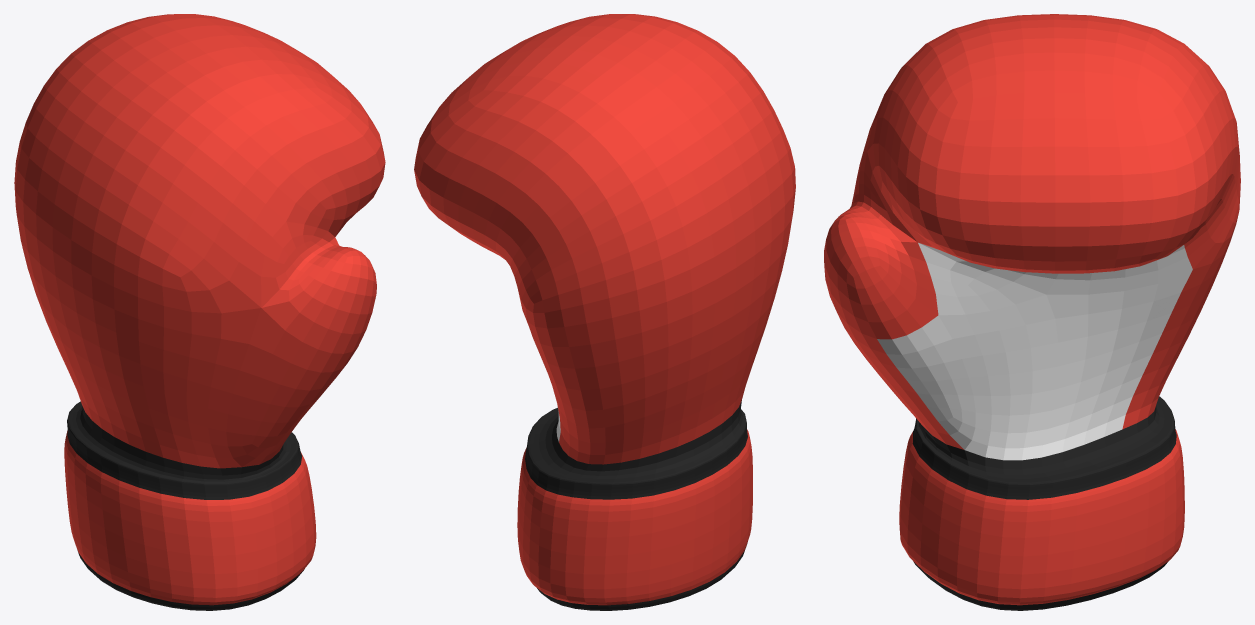
The model's file is BoxingGlove_Left.fbx.
3 views of the same model, side by side, from view 1: azimuth 30°, elevation 25°; view 2: azimuth 150°, elevation 25°; view 3: azimuth 270°, elevation 25° (orthographic). The views are drawn at different scales.
Visible parts, largest first — view 1: BoxingGlove_Left; view 2: BoxingGlove_Left; view 3: BoxingGlove_Left.
Part boxes in pixels (bbox=[...]): BoxingGlove_Left: bbox=[14, 14, 385, 610]; BoxingGlove_Left: bbox=[414, 14, 795, 610]; BoxingGlove_Left: bbox=[824, 14, 1240, 610].
Bounding box in the file's own units: 602 × 1007 × 701.
1 material, 1 textured.
